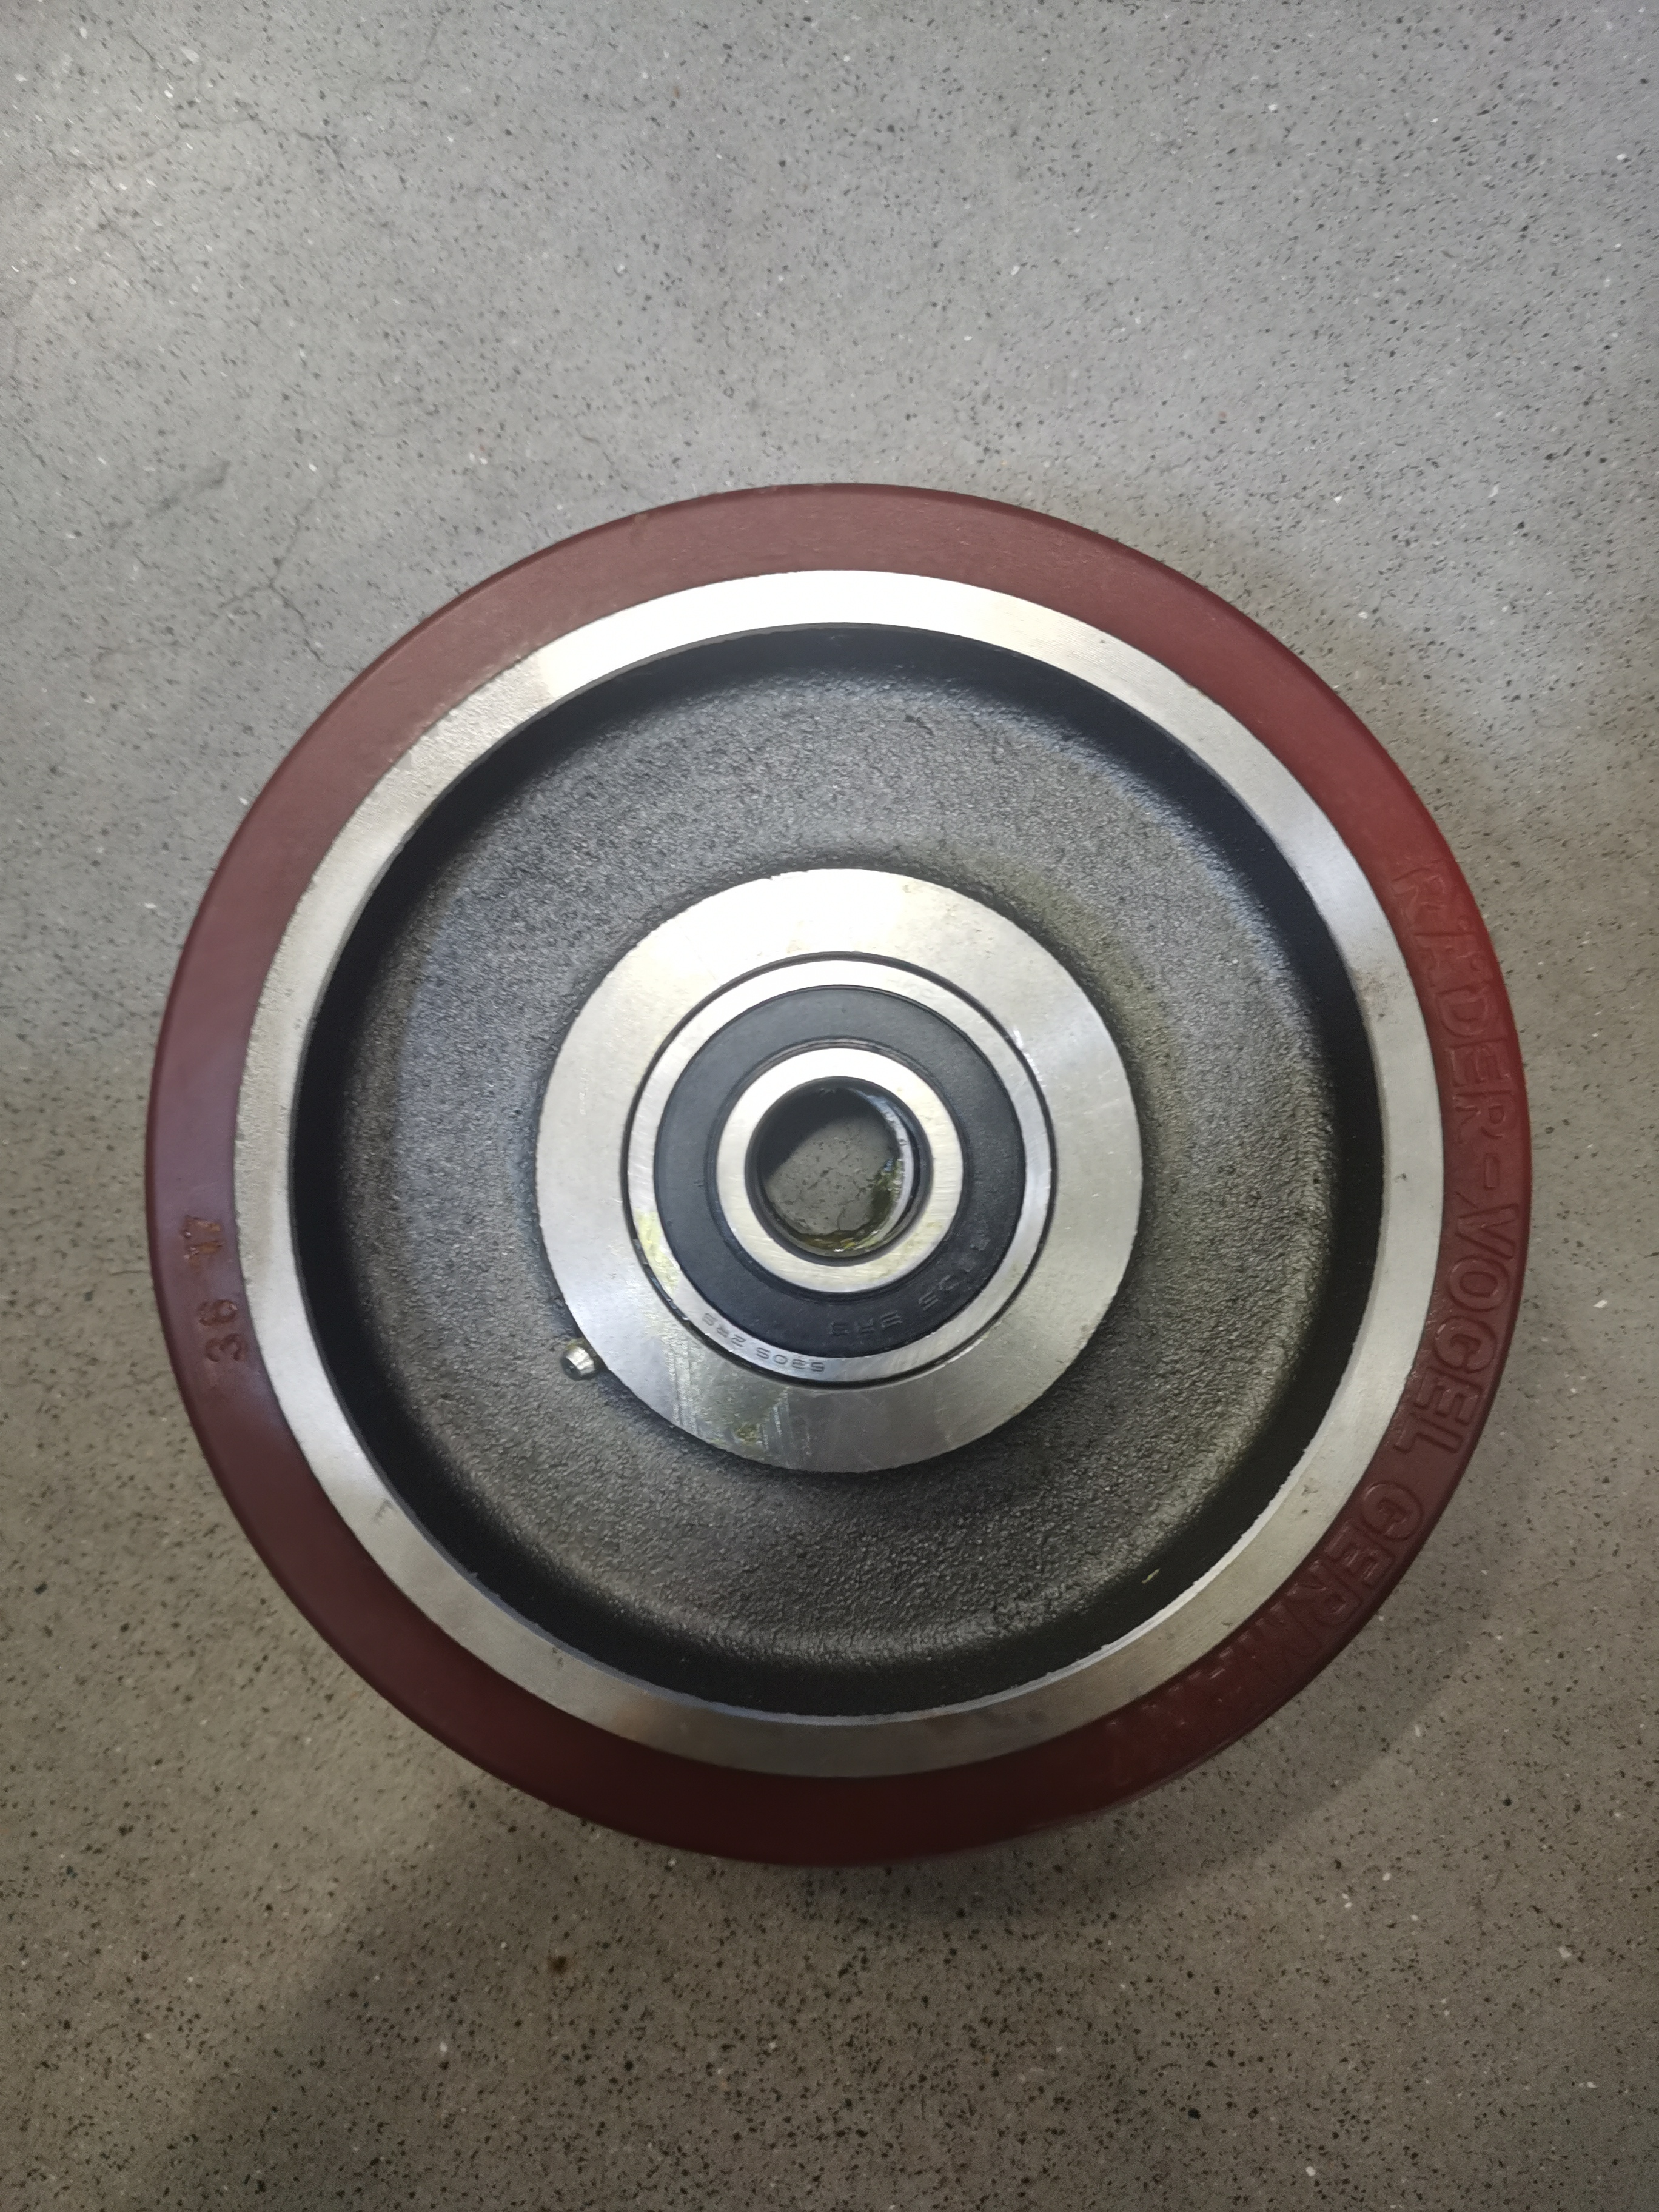good_wheel: (99, 446, 1549, 1881)
